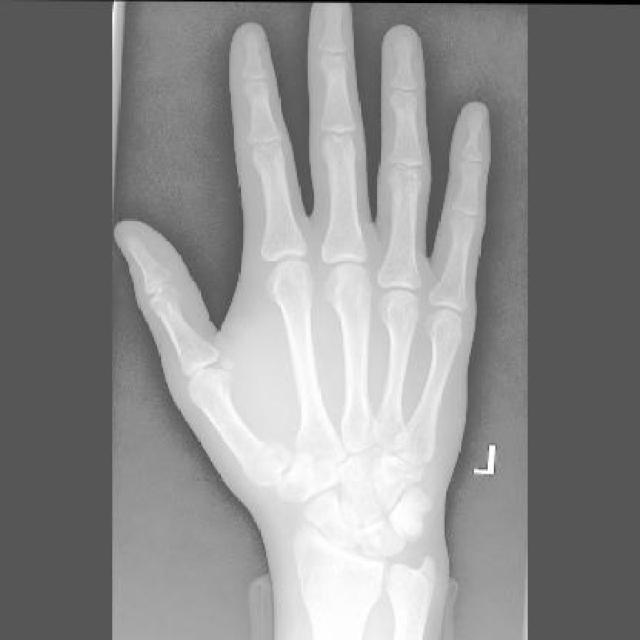Fracture: (246, 437, 294, 487)
